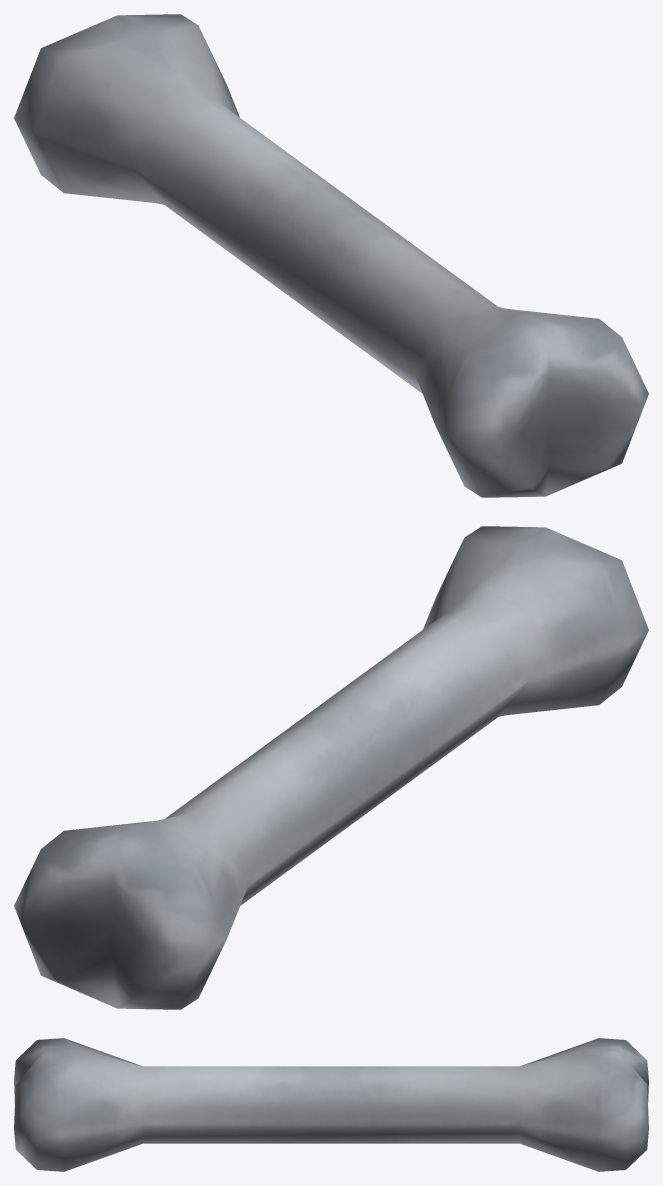
Rendered from Bone.FBX.
3 renders of one model, top to bottom at view 1: azimuth 30°, elevation 25°; view 2: azimuth 150°, elevation 25°; view 3: azimuth 270°, elevation 25°, orthographic. The views are drawn at different scales.
Visible parts, largest first — view 1: Object081; view 2: Object081; view 3: Object081.
Boxes of the visible parts, left/top/right/bottom form: Object081: left=14, top=14, right=648, bottom=497; Object081: left=14, top=526, right=648, bottom=1009; Object081: left=14, top=1038, right=648, bottom=1171.
Bounding box in the file's own units: 6.15 × 5.09 × 26.14.
Materials: 1 (1 with a texture image).
